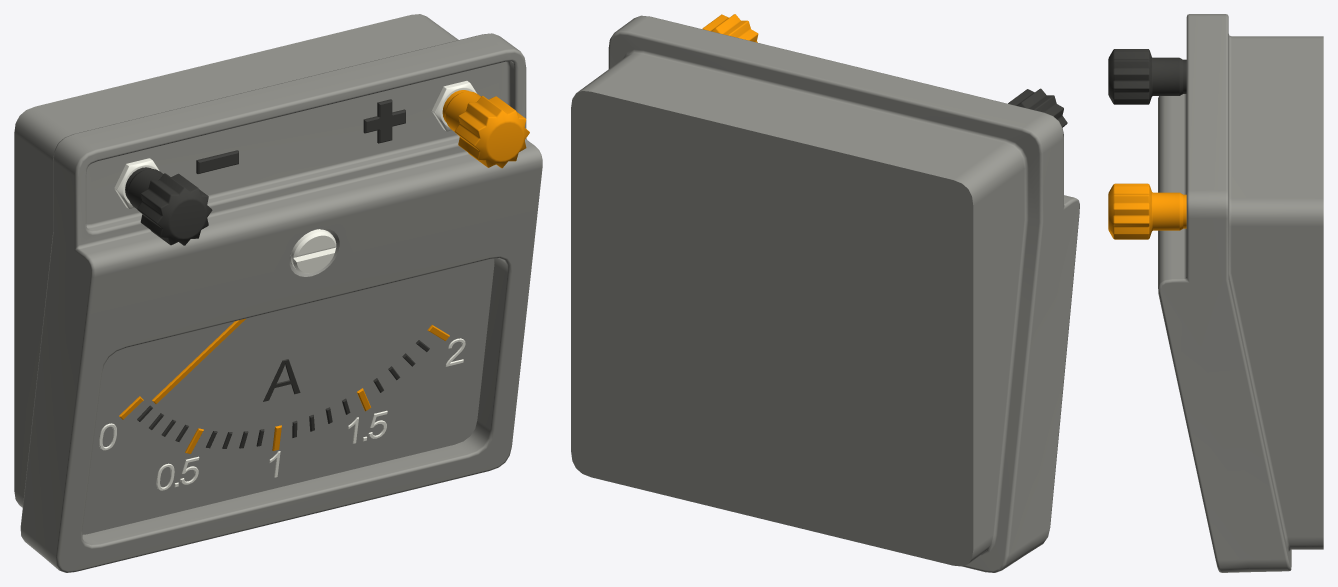
Rendered from Dual Knob (0-2)  #1.fbx.
3 renders of one model, left to right at view 1: azimuth 30°, elevation 25°; view 2: azimuth 150°, elevation 25°; view 3: azimuth 270°, elevation 25°, orthographic. The views are drawn at different scales.
Visible parts, largest first — view 1: kitbash_18; view 2: kitbash_18; view 3: kitbash_18.
Part boxes in pixels (x1,y1,x2,y2): kitbash_18: (14, 14, 542, 572); kitbash_18: (571, 14, 1079, 572); kitbash_18: (1108, 14, 1323, 572).
Bounding box in the file's own units: 10.9 × 9.96 × 5.13.
